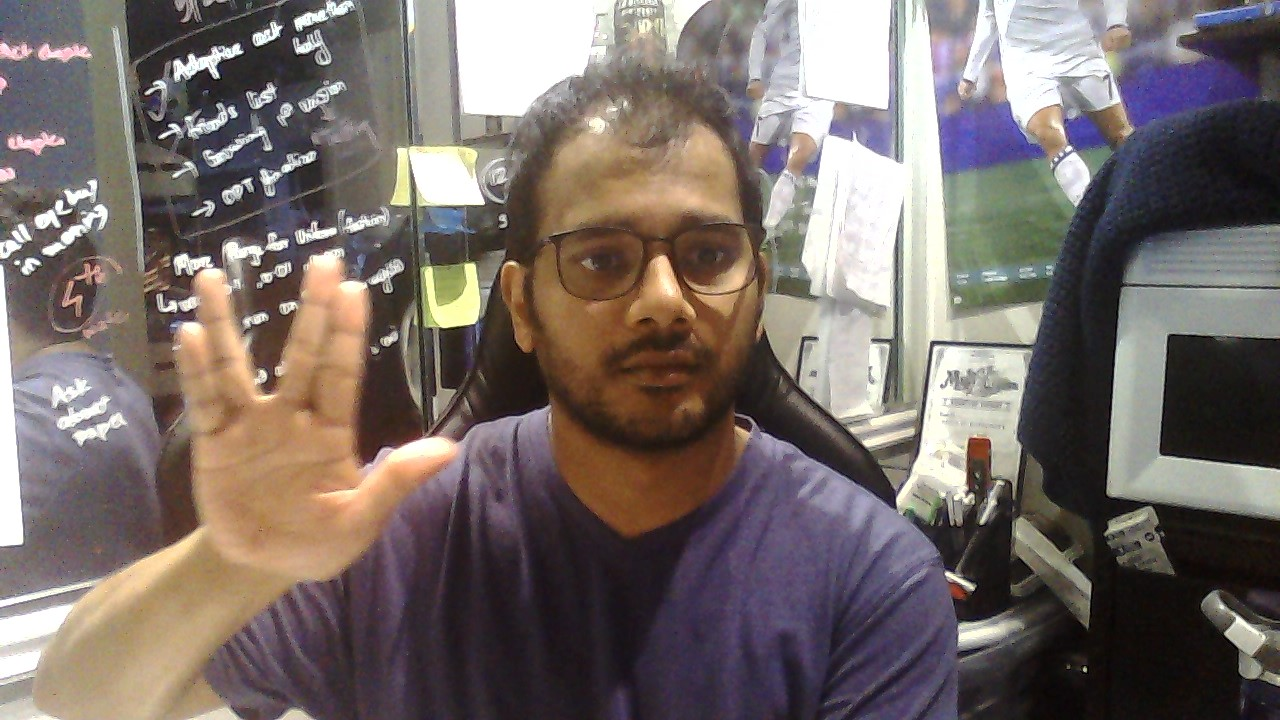LiveLong: (173, 253, 459, 581)
